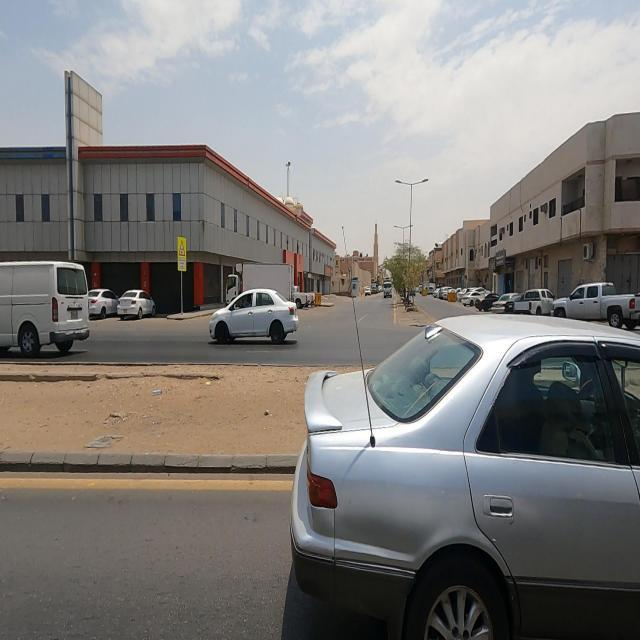debris: (72, 408, 146, 468), (126, 365, 186, 422)
